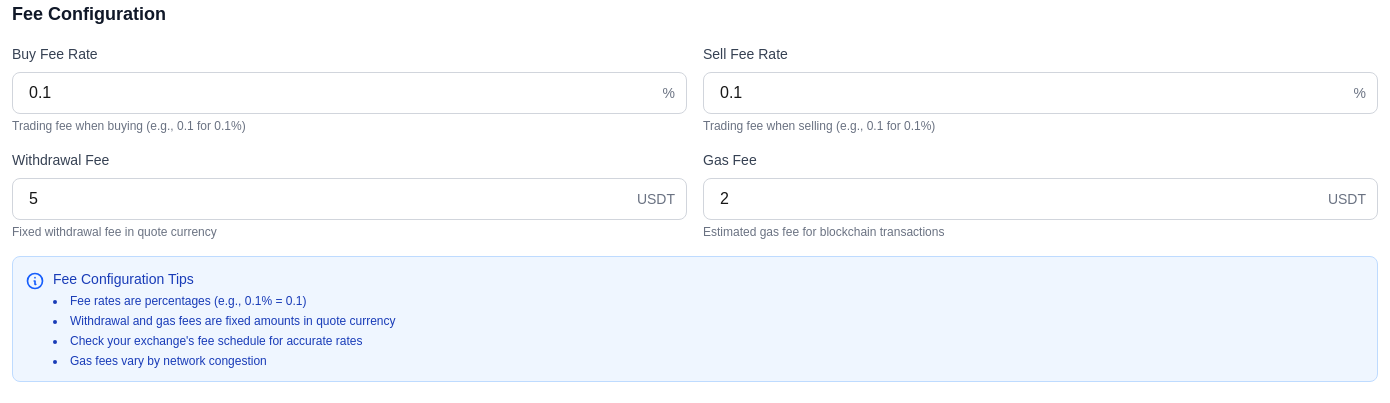
Scenario: FeeConfigForm Component › Buy Fee Rate Input › should show error on blur with empty input
Clear the field labelled "Buy Fee Rate" at {"x": 350, "y": 93}, box [12,72,687,114]
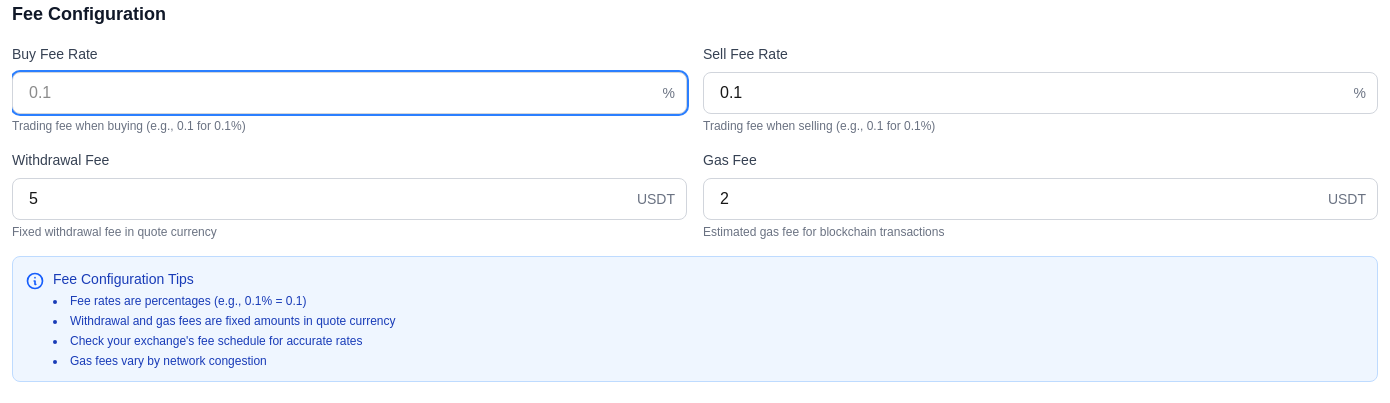
Leave the field labelled "Buy Fee Rate", box [12,72,687,114]
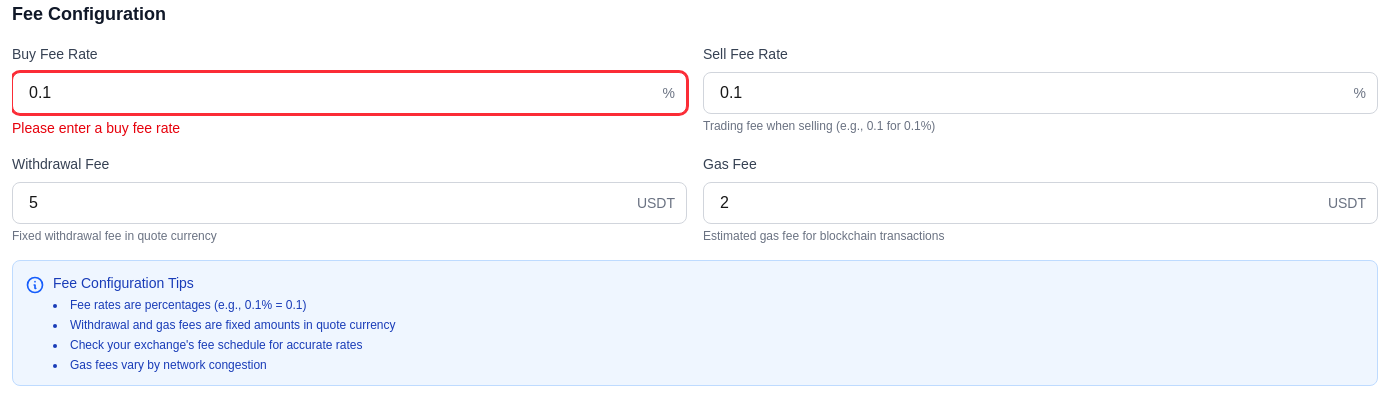
Check: the text "Please enter a buy fee rate" is shown, box [12,120,180,136]
